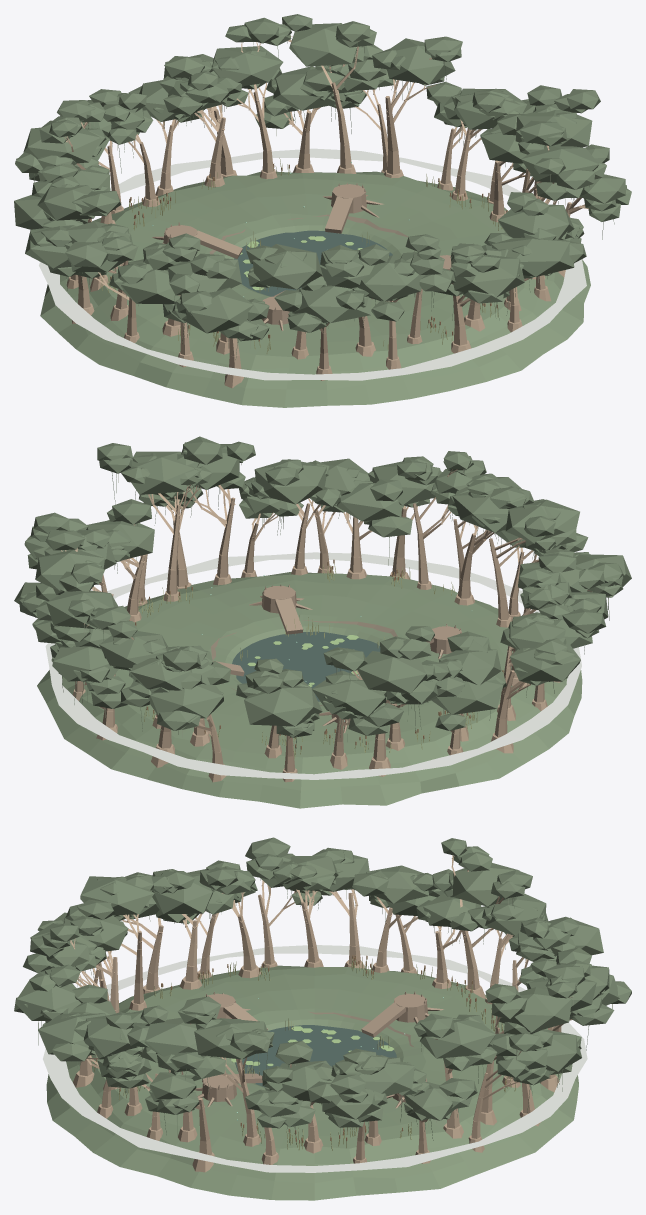
Rendered from arena_gnashroot.glb.
The picture shows the model from 3 angles, top to bottom: view 1: azimuth 30°, elevation 25°; view 2: azimuth 150°, elevation 25°; view 3: azimuth 270°, elevation 25°; orthographic projection.
Visible parts, largest first — view 1: GnashrootArena_DecoCanopy, GnashrootArena_Base, GnashrootArena_Grove, GnashrootArena_Foam, GnashrootArena_DecoMere, GnashrootArena_Stump1, GnashrootArena_DecoReeds, GnashrootArena_Stump2, GnashrootArena_DecoVines; view 2: GnashrootArena_DecoCanopy, GnashrootArena_Base, GnashrootArena_Grove, GnashrootArena_Foam, GnashrootArena_DecoMere, GnashrootArena_Stump4, GnashrootArena_DecoReeds, GnashrootArena_DecoVines, GnashrootArena_Stump3; view 3: GnashrootArena_DecoCanopy, GnashrootArena_Base, GnashrootArena_Grove, GnashrootArena_Foam, GnashrootArena_DecoMere, GnashrootArena_Stump2, GnashrootArena_DecoReeds, GnashrootArena_Stump4, GnashrootArena_Stump3, GnashrootArena_DecoVines, GnashrootArena_DecoLily.
Boxes of the visible parts, box(x1,y1,x2,y2) form: GnashrootArena_DecoCanopy: box(14, 14, 631, 341); GnashrootArena_Base: box(40, 171, 590, 407); GnashrootArena_Grove: box(64, 36, 588, 388); GnashrootArena_Foam: box(39, 148, 586, 380); GnashrootArena_DecoMere: box(234, 230, 392, 296); GnashrootArena_Stump1: box(323, 183, 383, 233); GnashrootArena_DecoReeds: box(100, 158, 504, 353); GnashrootArena_Stump2: box(152, 222, 242, 258); GnashrootArena_DecoVines: box(34, 41, 614, 359); GnashrootArena_DecoCanopy: box(14, 436, 631, 737); GnashrootArena_Base: box(37, 572, 582, 808); GnashrootArena_Grove: box(61, 469, 591, 782); GnashrootArena_Foam: box(45, 552, 581, 779); GnashrootArena_DecoMere: box(232, 631, 380, 701); GnashrootArena_Stump4: box(249, 584, 312, 634); GnashrootArena_DecoReeds: box(138, 563, 477, 758); GnashrootArena_DecoVines: box(62, 469, 609, 754); GnashrootArena_Stump3: box(426, 624, 461, 659); GnashrootArena_DecoCanopy: box(14, 837, 631, 1128); GnashrootArena_Base: box(46, 965, 578, 1200); GnashrootArena_Grove: box(70, 855, 572, 1172); GnashrootArena_Foam: box(43, 945, 587, 1172); GnashrootArena_DecoMere: box(235, 1025, 396, 1087); GnashrootArena_Stump2: box(361, 991, 443, 1037); GnashrootArena_DecoReeds: box(91, 956, 515, 1150); GnashrootArena_Stump4: box(194, 1073, 262, 1107); GnashrootArena_Stump3: box(204, 992, 267, 1029); GnashrootArena_DecoVines: box(38, 886, 589, 1140); GnashrootArena_DecoLily: box(231, 1026, 394, 1066).
Size of the model in its own units: 203 by 60.35 by 201.
